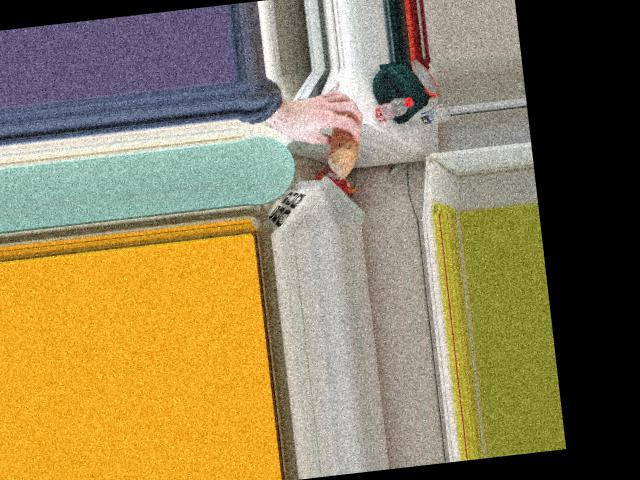sweet_potato: (323, 105, 361, 177)
